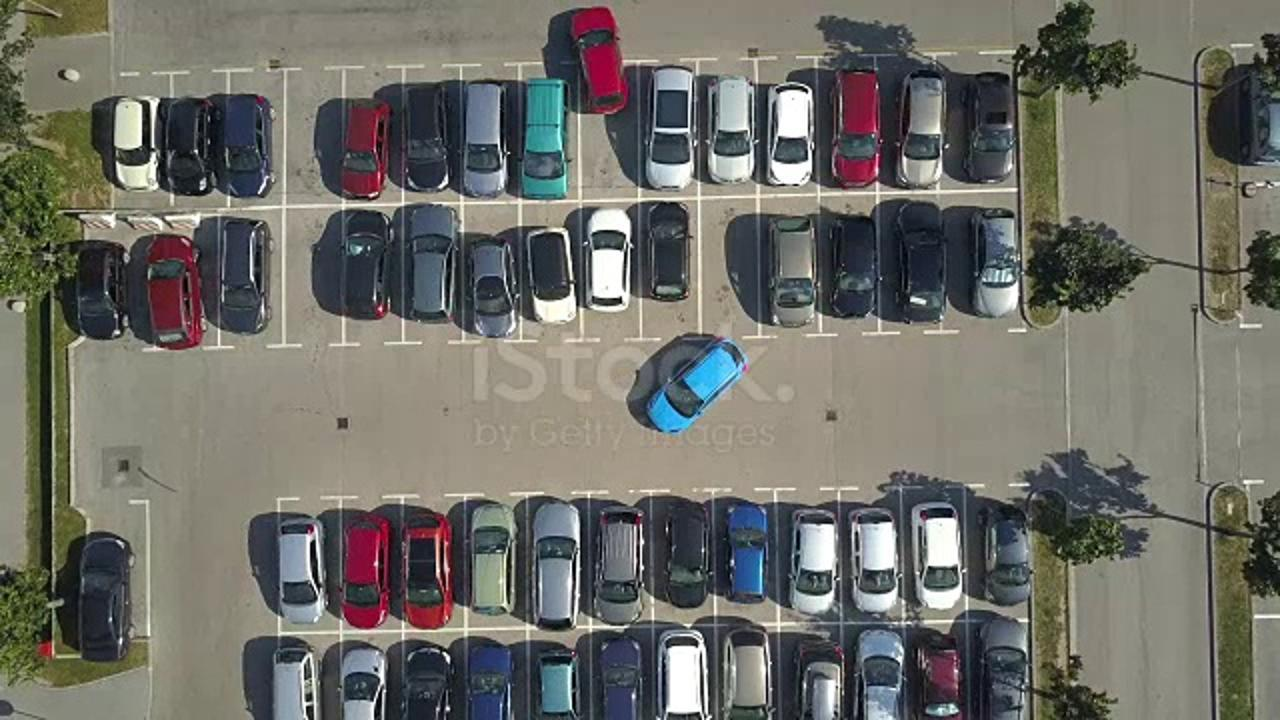car: (210, 212, 274, 335), (891, 195, 951, 322), (760, 209, 822, 330), (640, 195, 702, 316), (457, 500, 520, 615), (589, 508, 650, 623), (848, 504, 908, 620), (973, 503, 1033, 619), (338, 207, 396, 317), (762, 74, 818, 185), (971, 625, 1034, 720), (463, 238, 517, 340), (525, 226, 579, 328)
